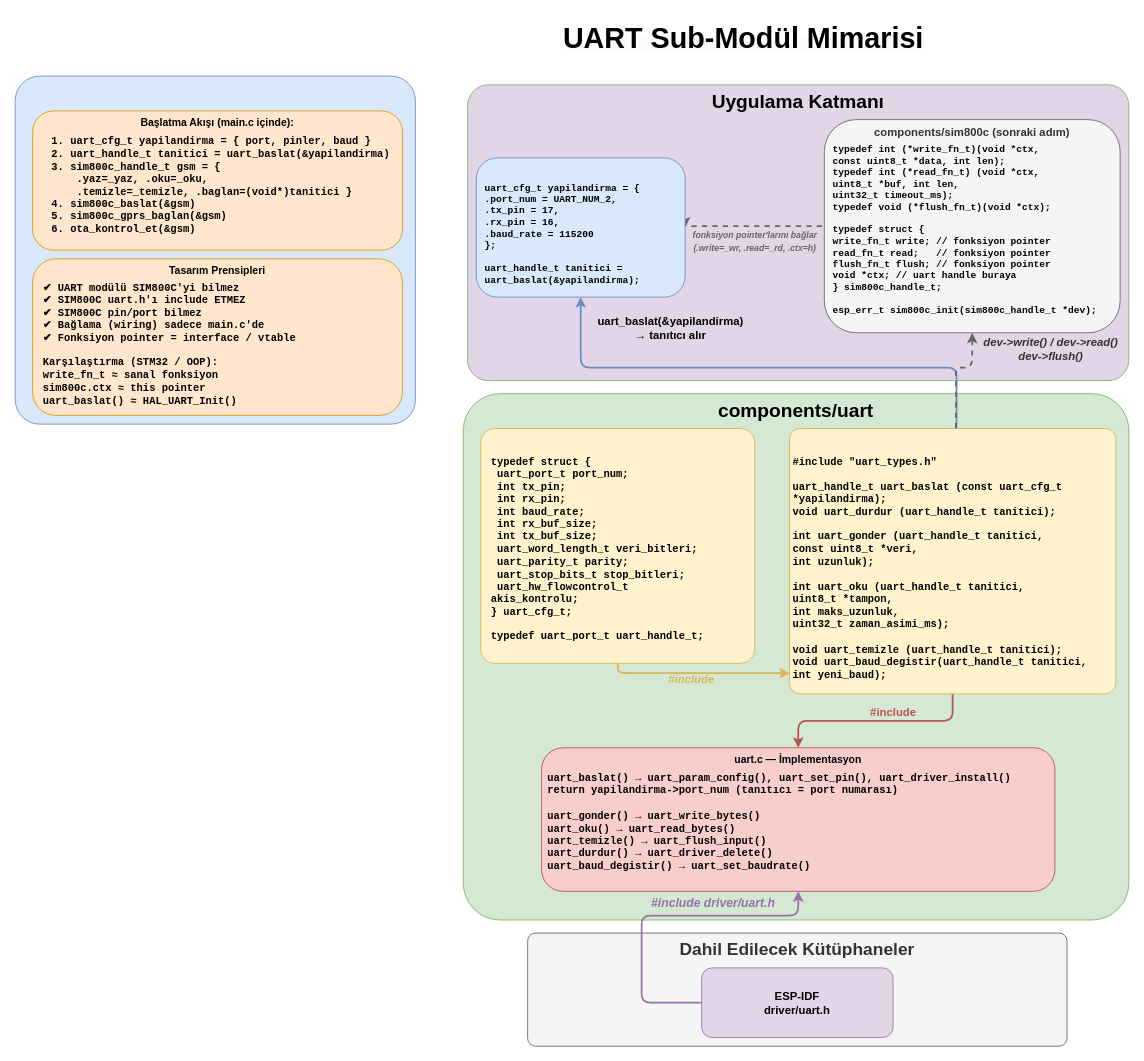
Image size: 1144x1061. Some labels were removed from this diagram. The shapes that lost their labels are listed below. From the top down, each one's box as (x1, y1, x2, y2) in pixels, then its label:
(475, 157, 685, 297): main.c
(14, 75, 415, 424): Kullanım Kılavuzu
(480, 428, 755, 663): uart_types.h
(789, 428, 1116, 694): uart.h — Public API
